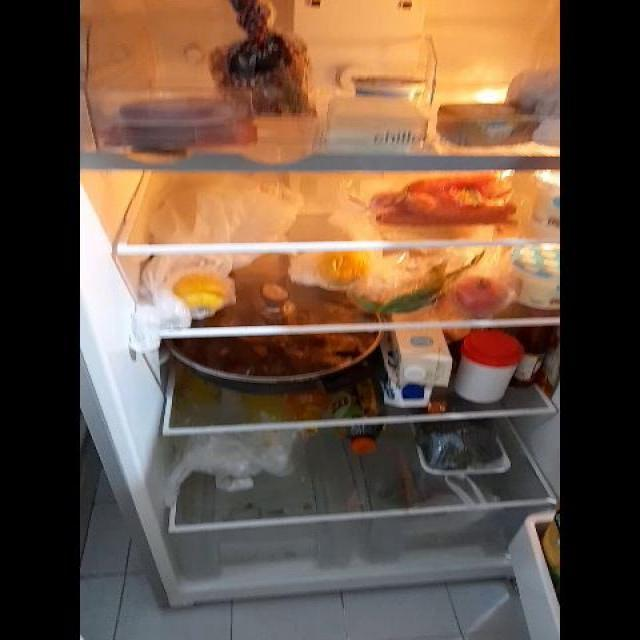broccoli: (419, 425, 502, 471)
butter: (438, 101, 536, 143)
carrot: (379, 177, 514, 224)
cheese: (323, 99, 424, 149)
green chilies: (358, 274, 448, 316)
lemon: (171, 271, 231, 311), (320, 249, 366, 291)
milk: (383, 327, 450, 403)
